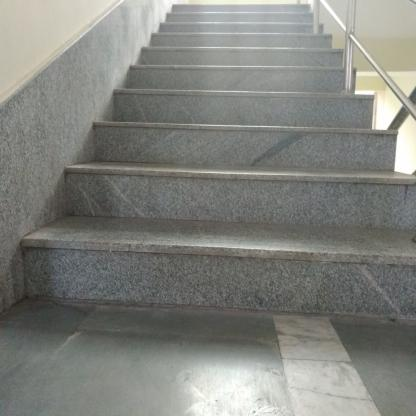stairs: (174, 10, 312, 330)
